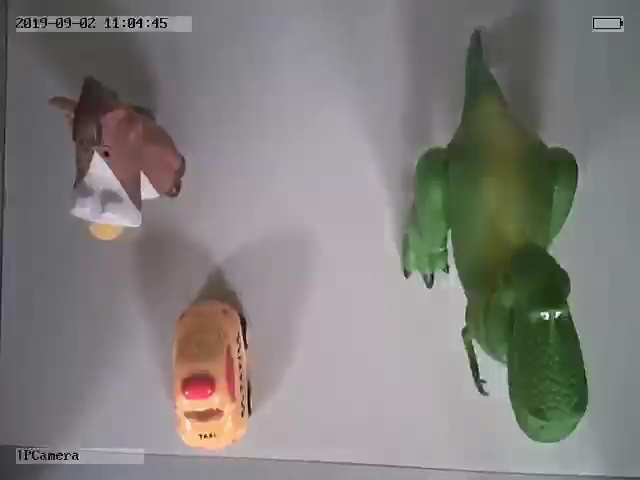car: (170, 298, 254, 449)
horse: (46, 78, 185, 240)
rex: (402, 45, 589, 444)
